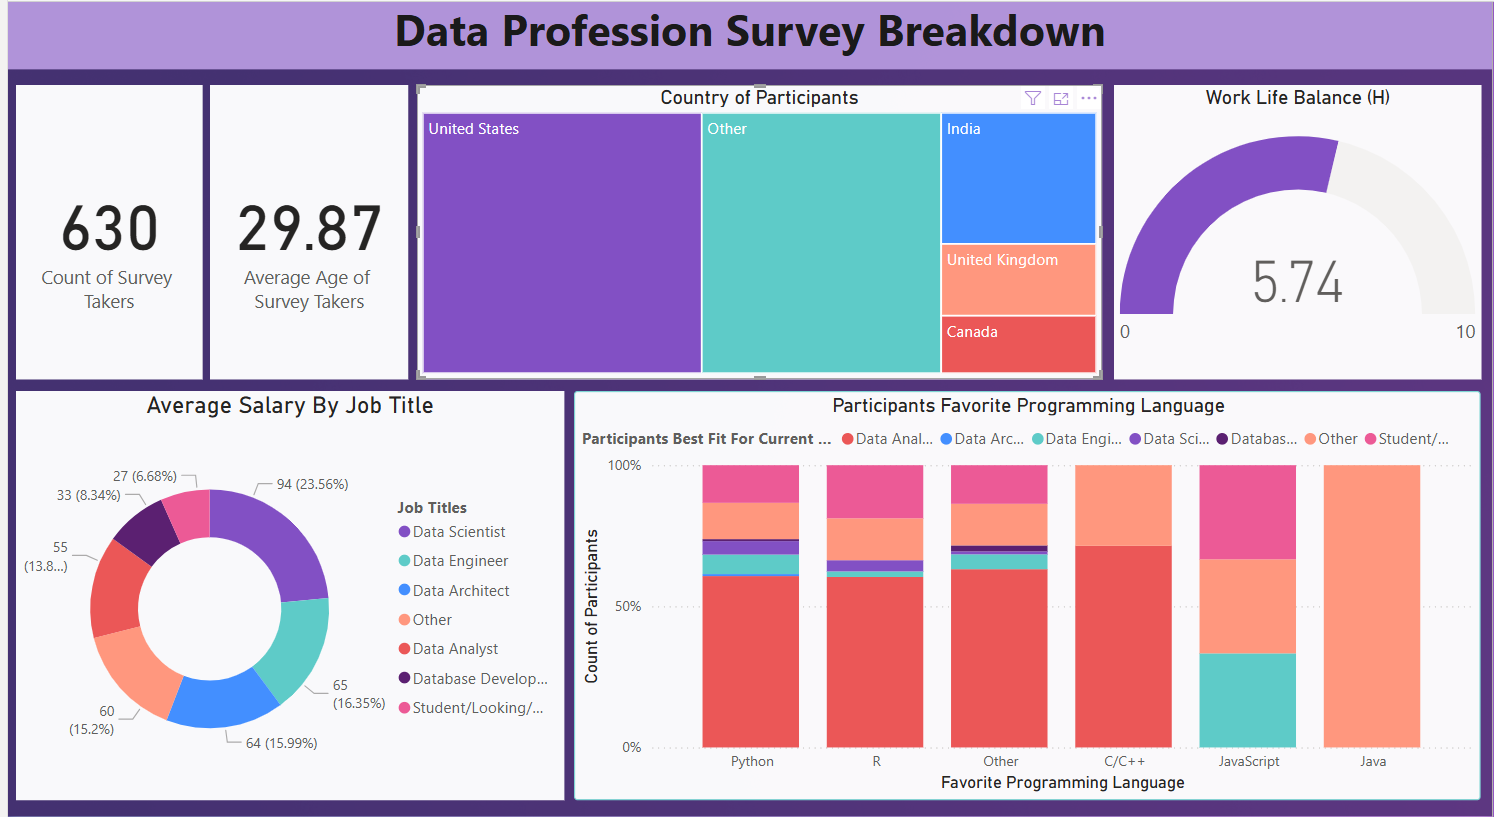

The dashboard page shown, as its layout file describes it:
{"tool":"powerbi","page":{"name":"DB 1","canvas":[1280,720],"ordinal":0},"visuals":[{"type":"textbox","box":[0,10.4,1280,64.7],"z":0},{"type":"card","fields":{"Values":["Count(Data Professional Survey.Unique ID)"]},"box":[6.7,88.5,160.6,253.8],"z":1000},{"type":"card","fields":{"Values":["Avg(Data Professional Survey.Q10 - Current Age)"]},"box":[174,88.5,171.2,253.8],"z":2000},{"type":"donutChart","title":"Average Salary By Job Title","fields":{"Category":["Data Professional Survey.Q1 - Which Title Best Fits your Current Role?.1"],"Y":["Avg(Data Professional Survey.Average  Salary)"]},"box":[6.7,352.9,473.1,352.9],"z":3000},{"type":"hundredPercentStackedColumnChart","title":"Participants Favorite Programming Language ","fields":{"Category":["Data Professional Survey.Q5 - Favorite Programming Language.1"],"Y":["CountNonNull(Data Professional Survey.Unique ID)"],"Series":["Data Professional Survey.Q1 - Which Title Best Fits your Current Role?.1"]},"box":[488.2,352.8,782.3,352.8],"z":4000},{"type":"treemap","title":"Country of Participants","fields":{"Group":["Data Professional Survey.Q11 - Which Country do you live in?.1"],"Values":["CountNonNull(Data Professional Survey.Q11 - Which Country do you live in?.1)"]},"box":[352.8,88.8,590.8,253.6],"z":5000},{"type":"gauge","title":"Work Life Balance (H)","fields":{"Y":["Avg(Data Professional Survey.Q6 - How Happy are you in your Current Position with the following? (Work/Life Balance))"],"MinValue":["Min(Data Professional Survey.Q6 - How Happy are you in your Current Position with the following? (Work/Life Balance))"],"MaxValue":["Max(Data Professional Survey.Q6 - How Happy are you in your Current Position with the following? (Work/Life Balance))1"]},"box":[954,88.8,316.5,253.6],"z":6000}]}

Visuals, with their boxes in screenshot pixels (x1, y1, x2, y2), scaled from the page's 1280x720 canvas onto the 1494x817 screenshot:
textbox: <region>0, 12, 1493, 85</region>
card - Count(Data Professional Survey.Unique ID): <region>8, 100, 195, 388</region>
card - Avg(Data Professional Survey.Q10 - Current Age): <region>203, 100, 403, 388</region>
"Average Salary By Job Title" donutChart: <region>8, 400, 560, 801</region>
"Participants Favorite Programming Language " hundredPercentStackedColumnChart: <region>570, 400, 1483, 801</region>
"Country of Participants" treemap: <region>412, 101, 1101, 389</region>
"Work Life Balance (H)" gauge: <region>1113, 101, 1483, 389</region>
